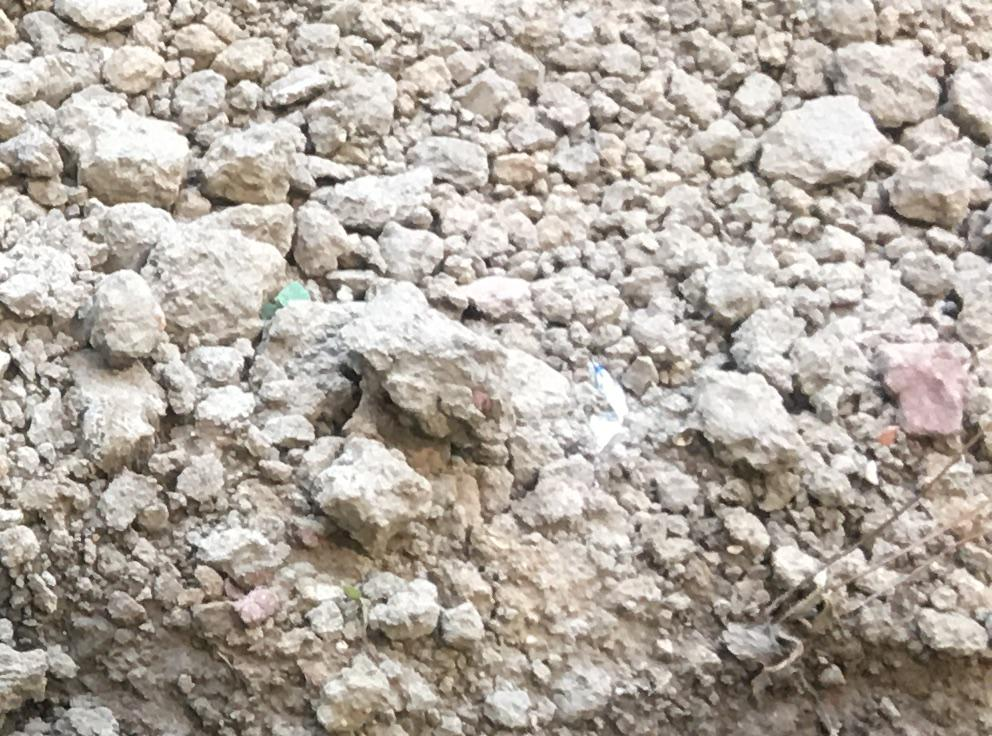block: (330, 286, 509, 446), (145, 217, 277, 340), (302, 427, 425, 544), (689, 363, 804, 480), (75, 103, 196, 208), (750, 96, 881, 188), (193, 113, 309, 204), (887, 130, 976, 229), (84, 267, 170, 366), (305, 166, 432, 232)
